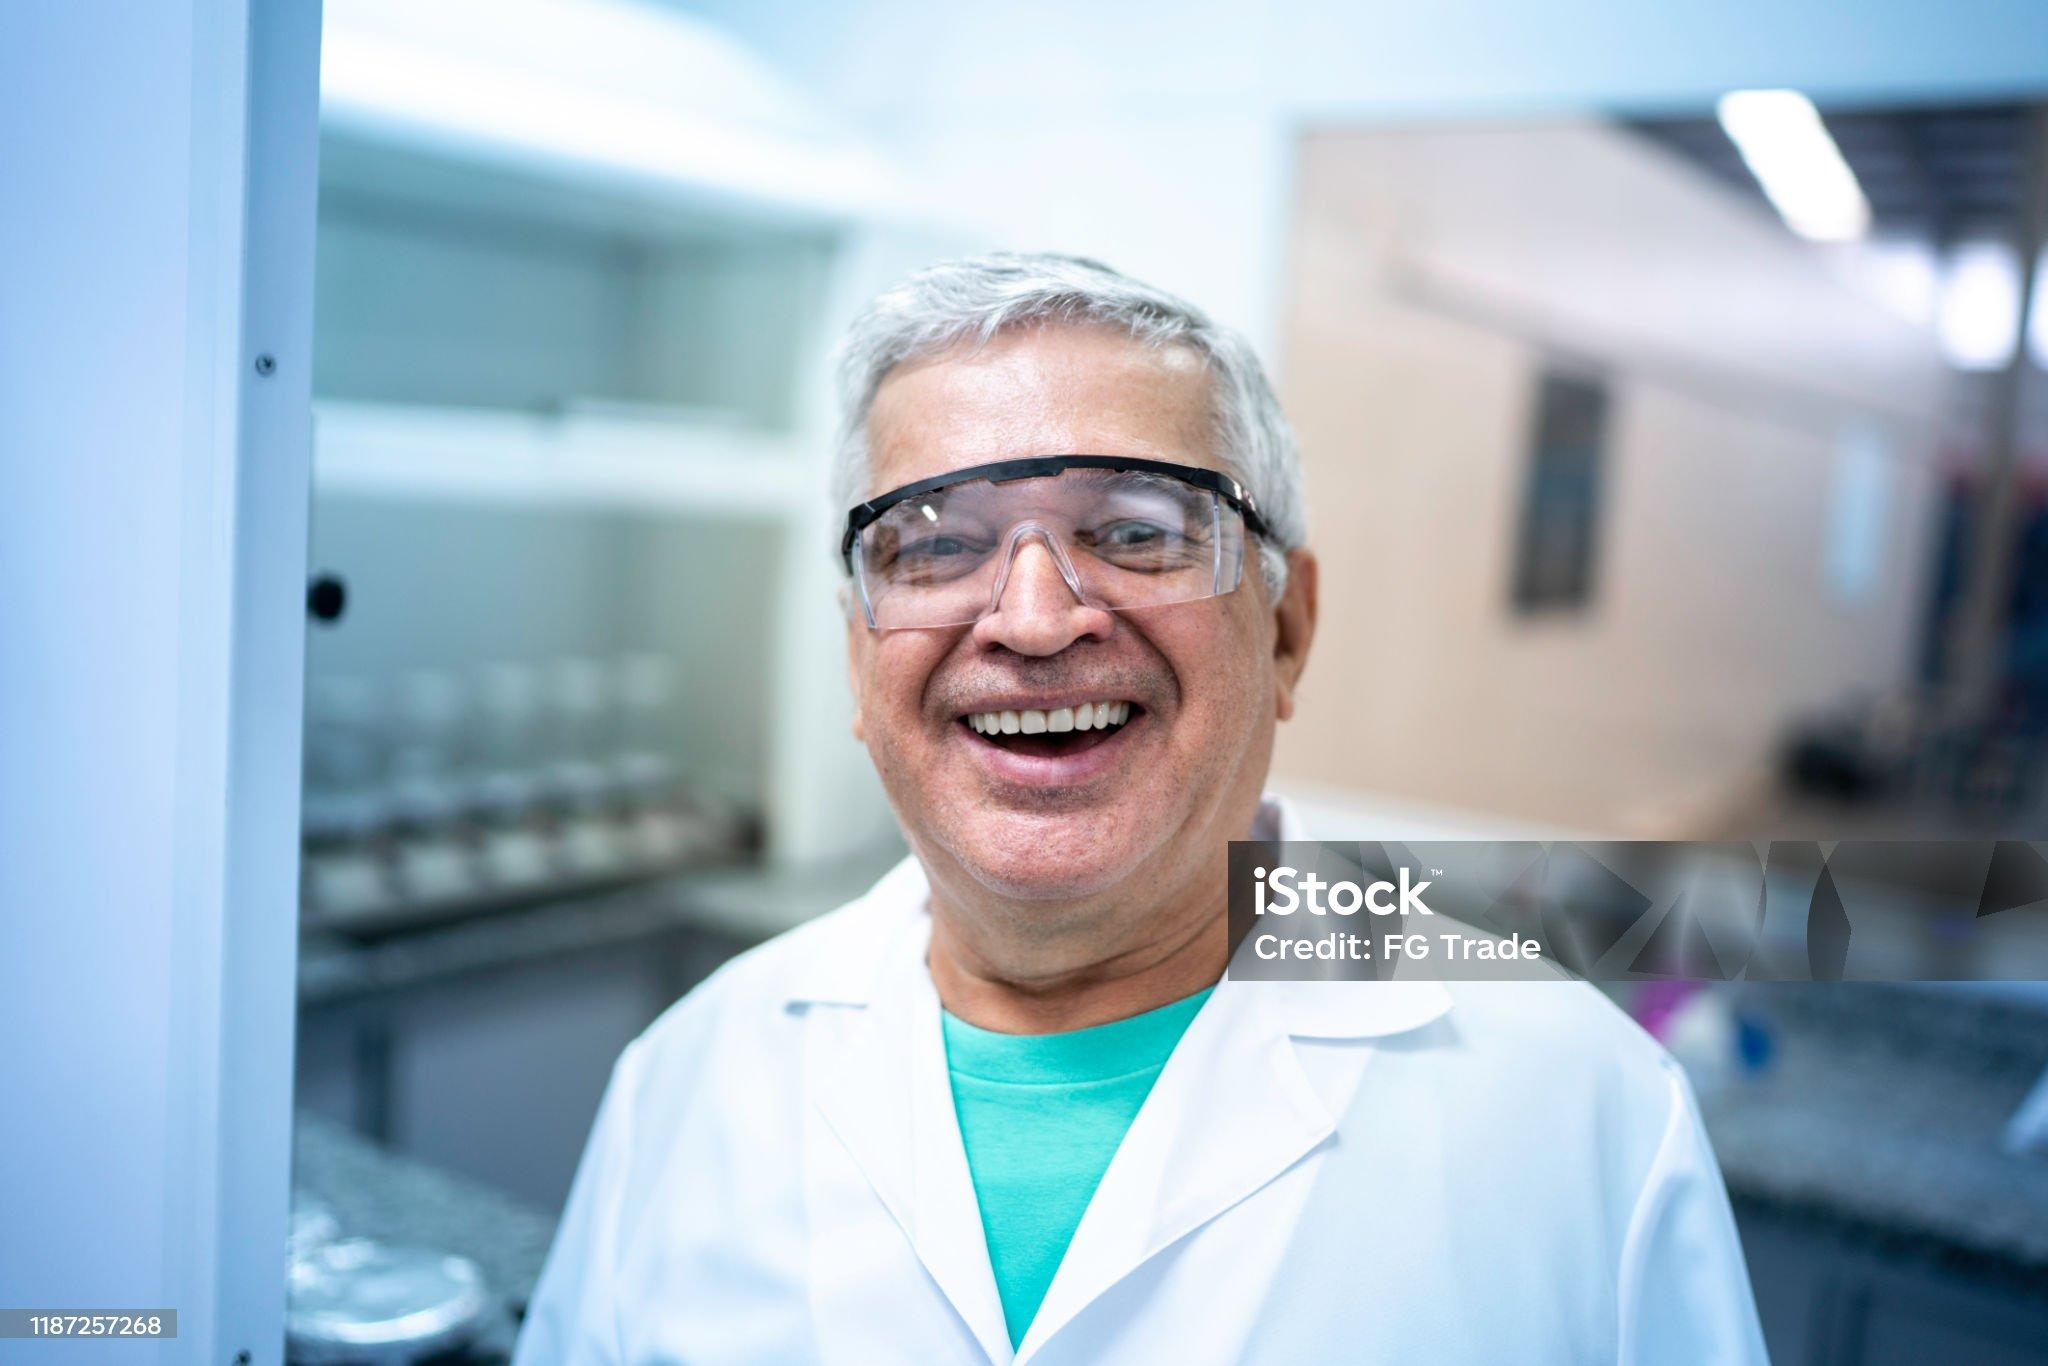Goggles: (843, 454, 1269, 633)
